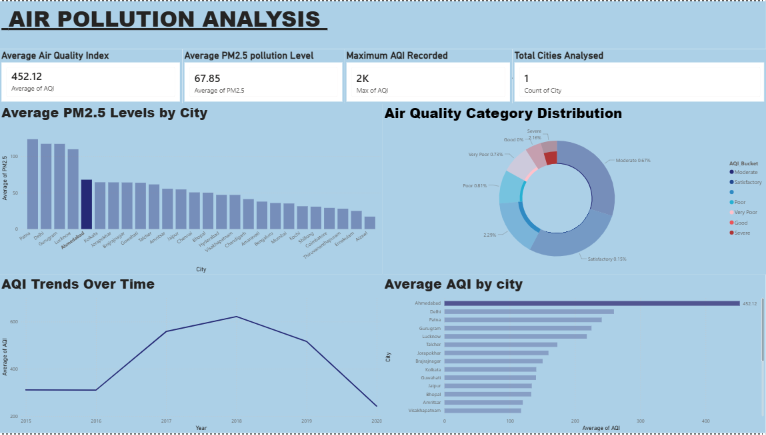

The page's visual inventory and layout, read from the dashboard file:
{"tool":"powerbi","page":{"name":"Page 1","canvas":[1920,1080],"ordinal":0},"visuals":[{"type":"clusteredBarChart","title":"Average AQI by city","fields":{"Category":["city_day.City"],"Y":["Avg(city_day.AQI)"]},"box":[958.1,683.2,961,396.9],"z":0},{"type":"cardVisual","title":"Average Air Quality Index","fields":{"Data":["Avg(city_day.AQI)"]},"box":[0,119.1,456.4,136.1],"z":1000},{"type":"lineChart","title":"AQI Trends Over Time","fields":{"Category":["city_day.Date.Variation.Date Hierarchy.Year","city_day.Date.Variation.Date Hierarchy.Quarter","city_day.Date.Variation.Date Hierarchy.Month","city_day.Date.Variation.Date Hierarchy.Day"],"Y":["Avg(city_day.AQI)"]},"box":[0,683.2,961,396.9],"z":2000},{"type":"cardVisual","title":"Average PM2.5 pollution Level","fields":{"Data":["Avg(city_day.PM2.5)"]},"box":[456.4,119.1,405.4,136.1],"z":3000},{"type":"cardVisual","title":"Maximum AQI Recorded","fields":{"Data":["Max(city_day.AQI)"]},"box":[861.7,119.1,419.5,136.1],"z":4000},{"type":"cardVisual","title":"Total Cities Analysed","fields":{"Data":["Count(city_day.City)"]},"box":[1281.3,119.1,637.8,136.1],"z":5000},{"type":"donutChart","title":"Air Quality Category Distribution","fields":{"Category":["city_day.AQI_Bucket"],"Y":["CountNonNull(city_day.AQI_Bucket)"]},"box":[957.5,256,962.5,428.3],"z":6000},{"type":"clusteredColumnChart","title":"Average PM2.5 Levels by City","fields":{"Category":["city_day.City"],"Y":["Avg(city_day.PM2.5)"]},"box":[0,255.1,958.1,428],"z":7000},{"type":"textbox","box":[0,0,1919.1,119.1],"z":8000}]}

Visuals, with their boxes in screenshot pixels (x1, y1, x2, y2), scaled from the page's 1920x1080 canvas onto the 766x435 screenshot:
"Average AQI by city" clusteredBarChart: <bbox>382, 275, 765, 434</bbox>
"Average Air Quality Index" cardVisual: <bbox>0, 48, 182, 103</bbox>
"AQI Trends Over Time" lineChart: <bbox>0, 275, 383, 434</bbox>
"Average PM2.5 pollution Level" cardVisual: <bbox>182, 48, 344, 103</bbox>
"Maximum AQI Recorded" cardVisual: <bbox>344, 48, 511, 103</bbox>
"Total Cities Analysed" cardVisual: <bbox>511, 48, 765, 103</bbox>
"Air Quality Category Distribution" donutChart: <bbox>382, 103, 765, 276</bbox>
"Average PM2.5 Levels by City" clusteredColumnChart: <bbox>0, 103, 382, 275</bbox>
textbox: <bbox>0, 0, 765, 48</bbox>
